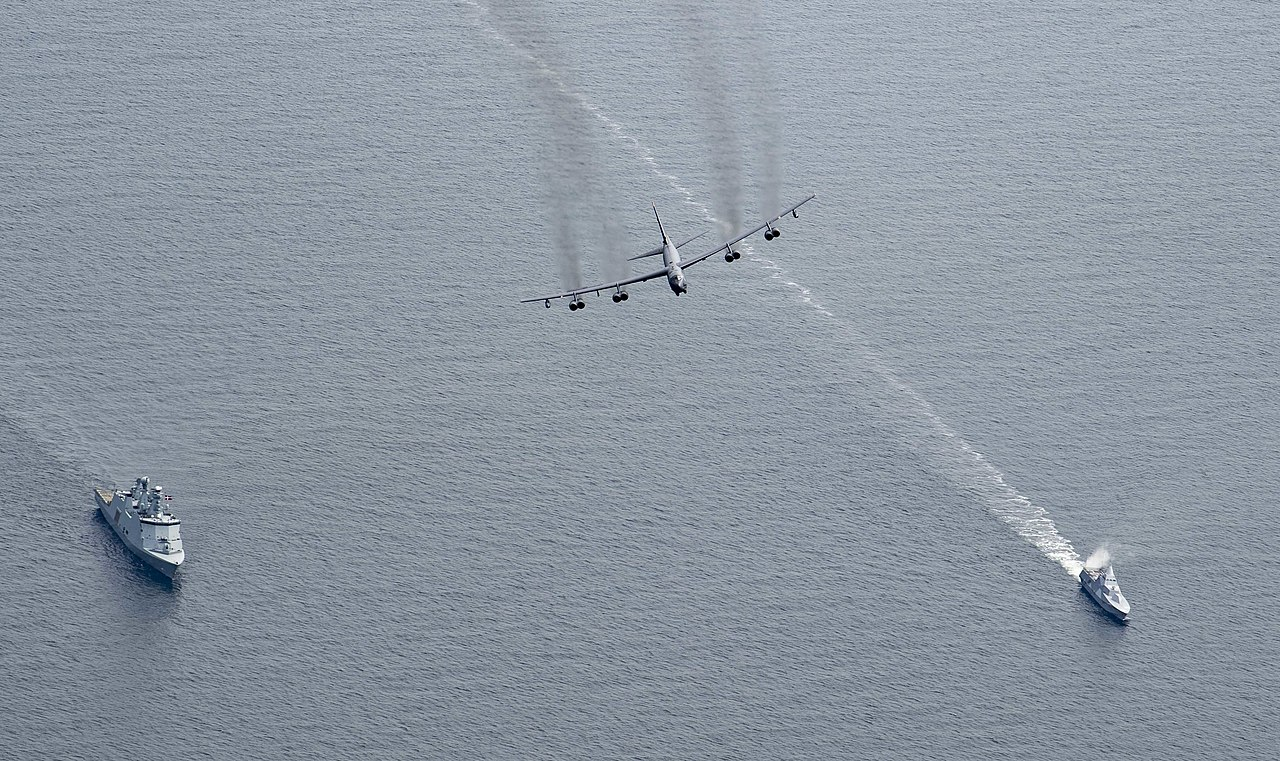B52: (519, 192, 817, 312)
